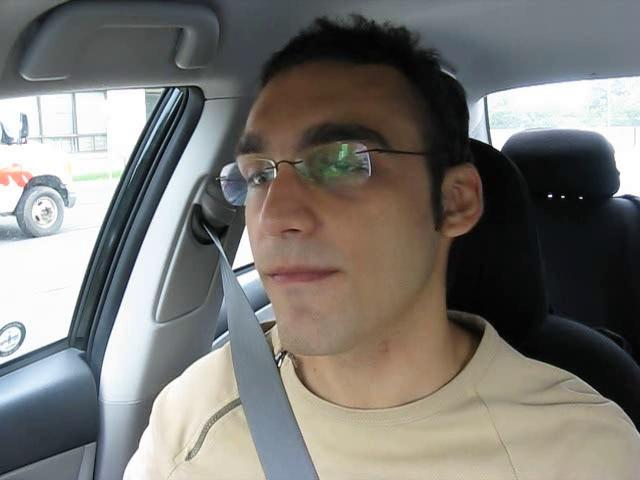no_yawn: (251, 248, 357, 305)
open_eyeL: (238, 155, 292, 195)
open_eyeR: (305, 139, 389, 193)
